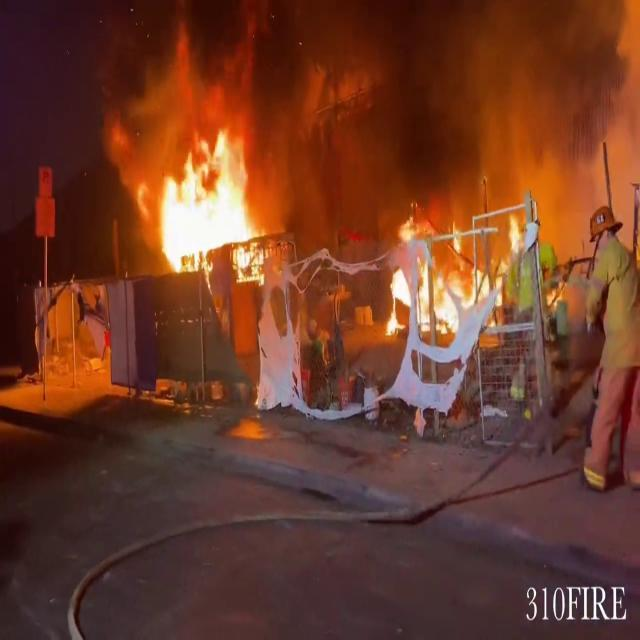Fire: (380, 193, 522, 341), (143, 124, 274, 280)
Smoke: (153, 0, 640, 191)
